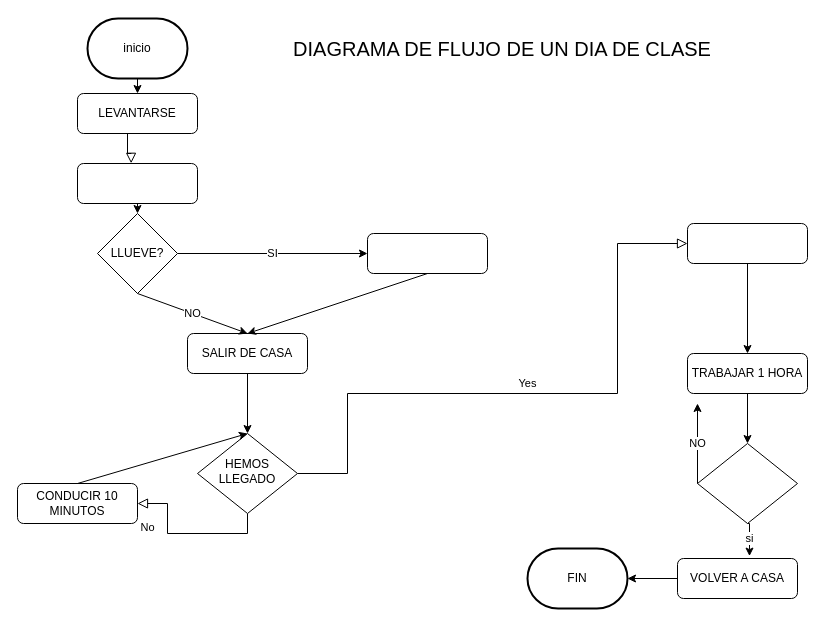
This 825x626 diagram has some shape labels left out. Each missing label, with the box of its shape:
COGER PARAGUAS: (366, 232, 488, 274)
ENTRAR OFICINA: (686, 222, 808, 264)
HEMOS ACABADO: (696, 442, 798, 524)
VERTIRSE: (76, 162, 198, 204)
